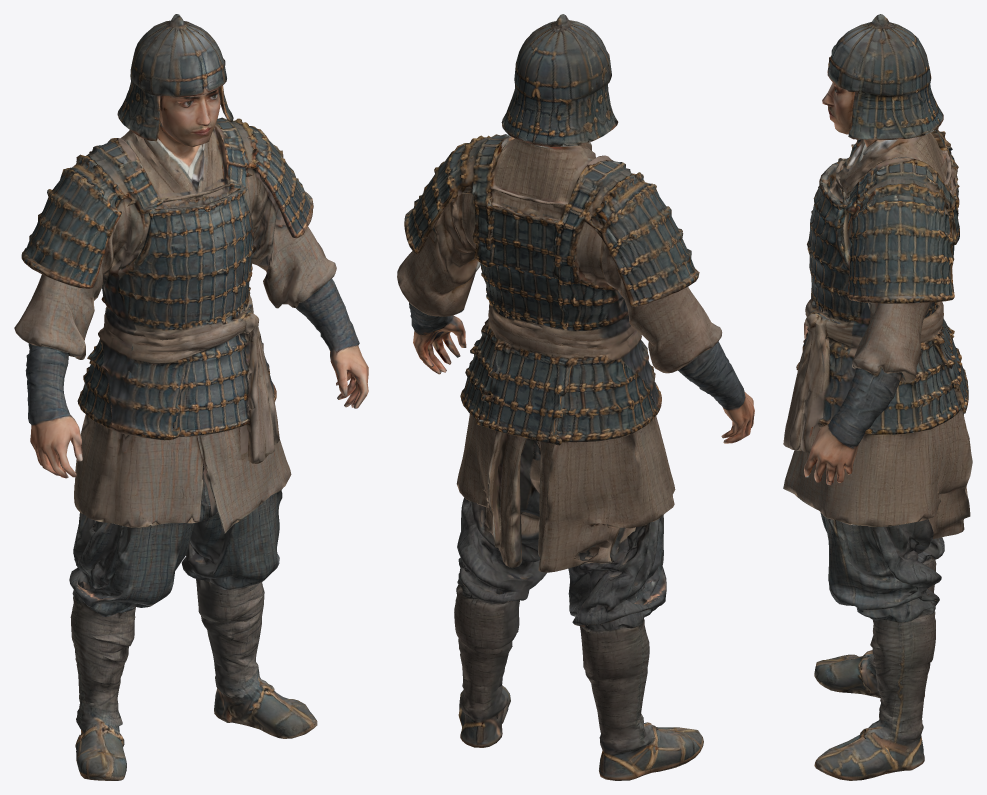
The model's file is ReliefGuard.fbx.
The picture shows the model from 3 angles, left to right: view 1: azimuth 30°, elevation 25°; view 2: azimuth 150°, elevation 25°; view 3: azimuth 270°, elevation 25°; orthographic projection. The views are drawn at different scales.
Visible parts, largest first — view 1: ReliefGuard_Han208_v3_refined; view 2: ReliefGuard_Han208_v3_refined; view 3: ReliefGuard_Han208_v3_refined.
Boxes of the visible parts, x1,y1,x2,y2 form: ReliefGuard_Han208_v3_refined: [14, 14, 368, 780]; ReliefGuard_Han208_v3_refined: [397, 14, 754, 780]; ReliefGuard_Han208_v3_refined: [783, 14, 972, 780].
Size of the model in its own units: 83.25 by 176 by 42.26.
Materials: 1 (1 with a texture image).
